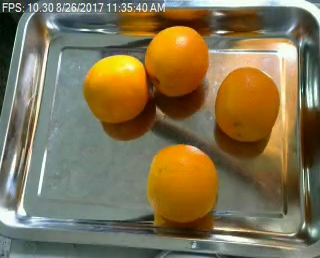Orange: (148, 143, 219, 221), (214, 67, 280, 142), (83, 53, 151, 122), (145, 24, 209, 94)
